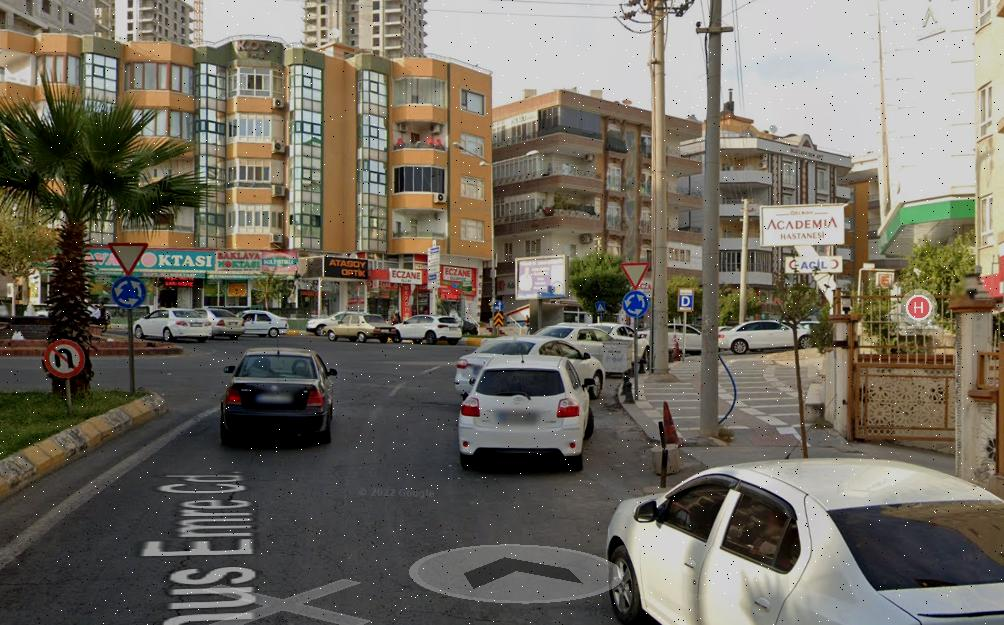crossroads: (113, 277, 146, 307), (623, 292, 649, 316)
